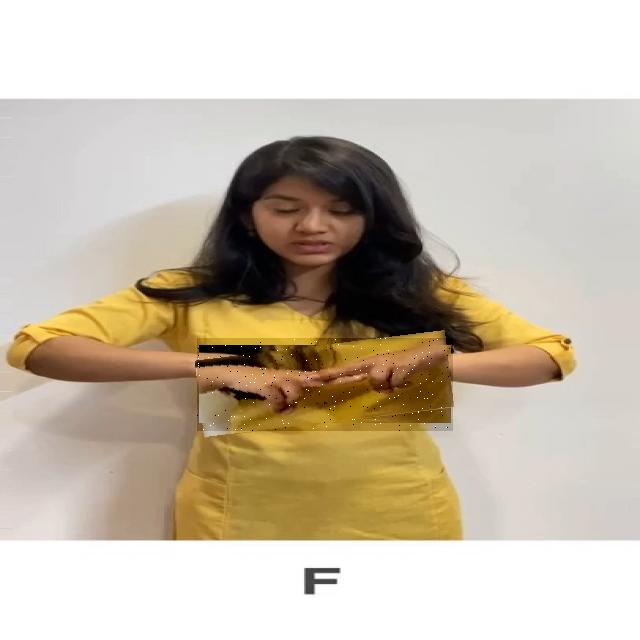F: (197, 338, 453, 431)
